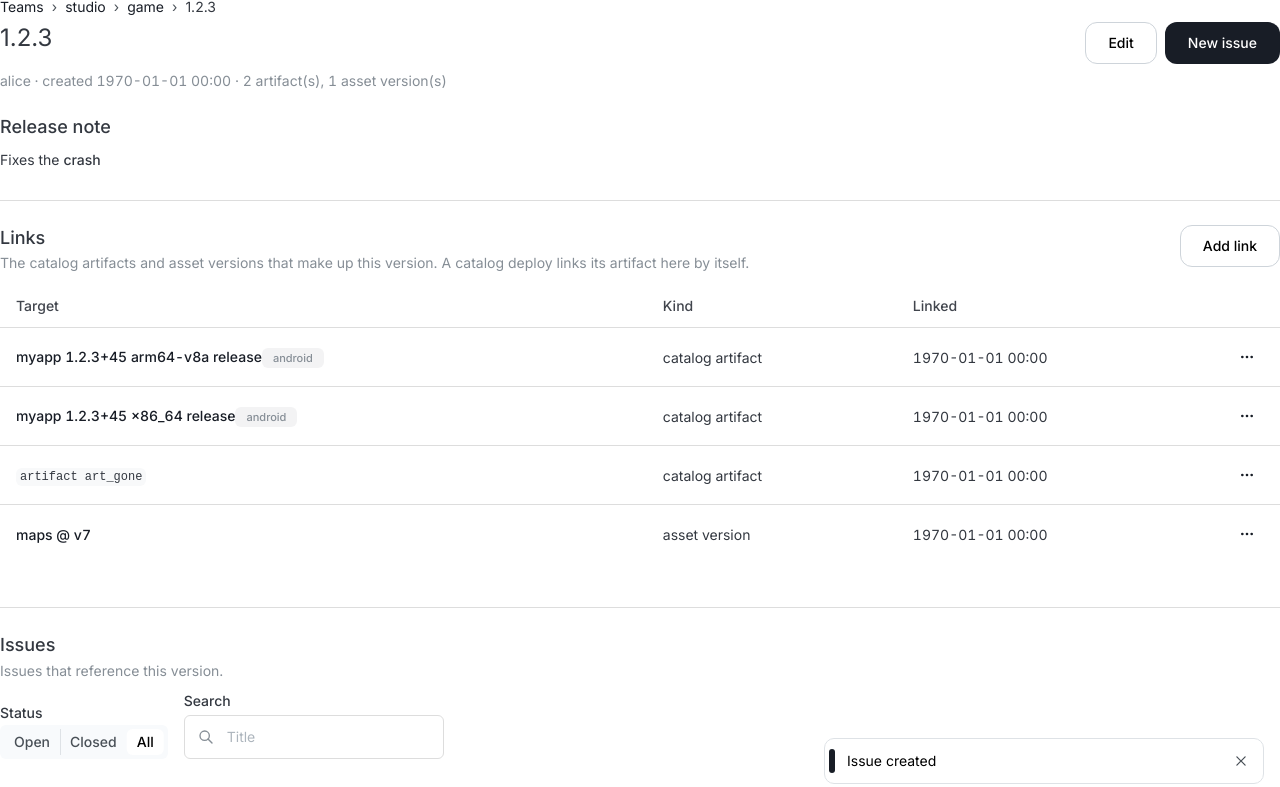
it: VersionPage › edits the note in a drawer and deletes from its danger zone
Expected: the heading "1.2.3" is shown, top-left (0, 22), bottom-right (52, 54)
Click the button "Edit" at (1121, 43), box top-left (1085, 22), bottom-right (1157, 64)
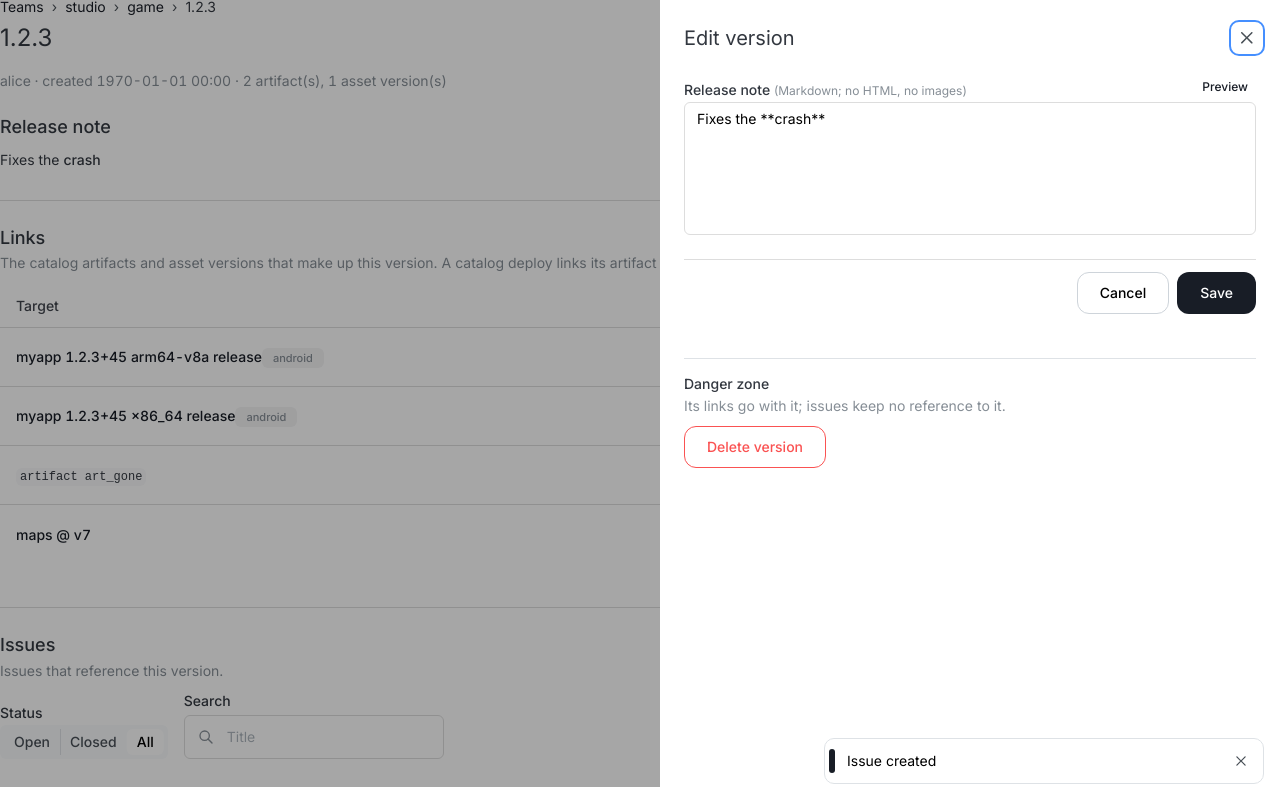
Replace the text in the text box named "Release note" with "Now *better*" at (970, 168), box top-left (684, 102), bottom-right (1256, 235)
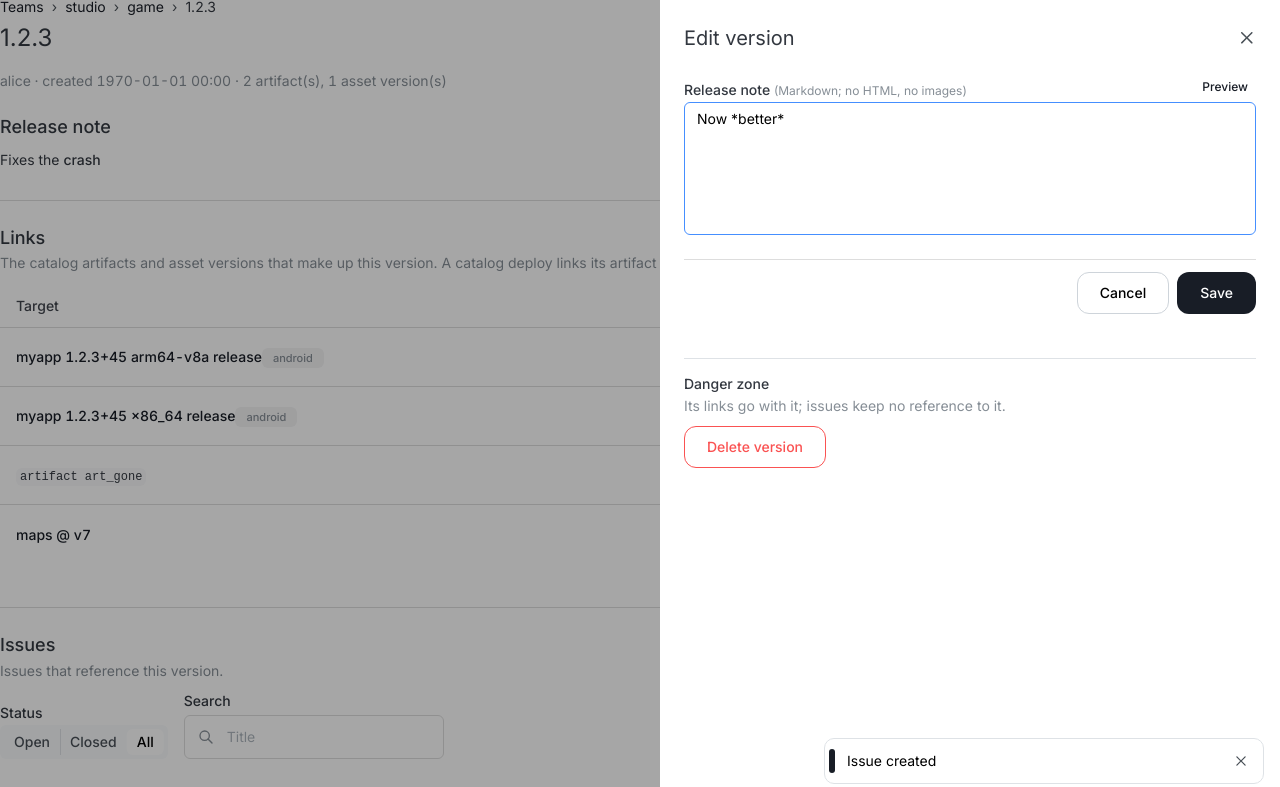
Click the button "Save" at (1217, 293), box top-left (1177, 272), bottom-right (1256, 314)
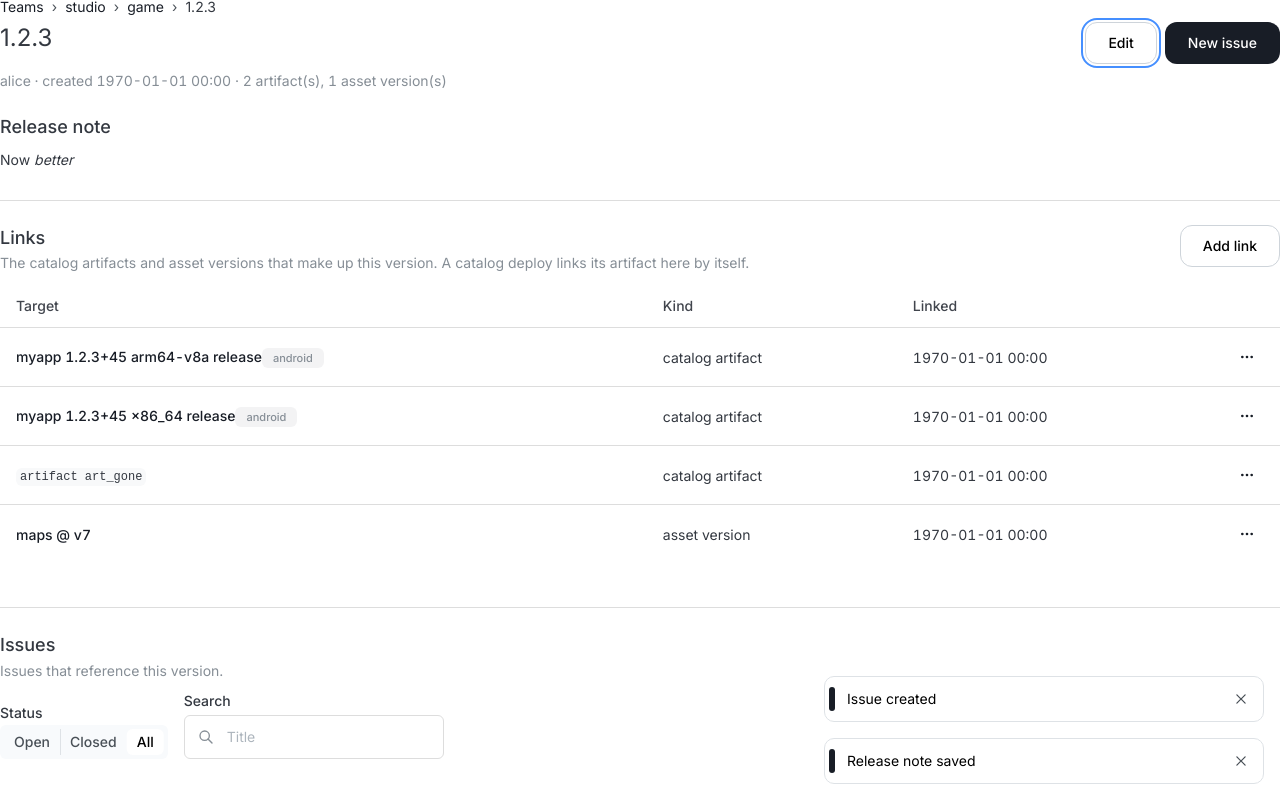
Now the text "better" is shown, box top-left (34, 151), bottom-right (73, 168)
Click the button "Edit" at (1121, 43), box top-left (1085, 22), bottom-right (1157, 64)
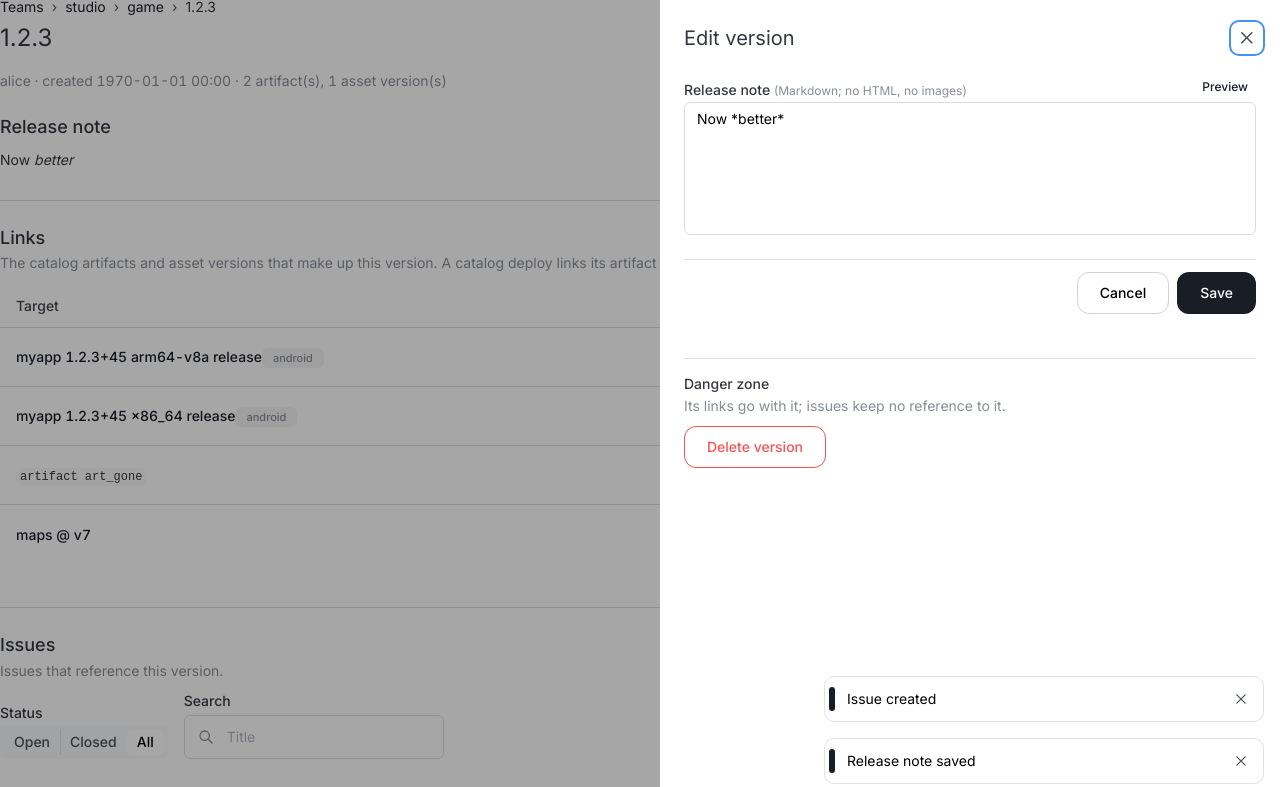
Click the button "Delete version" at (755, 447), box top-left (684, 426), bottom-right (826, 468)
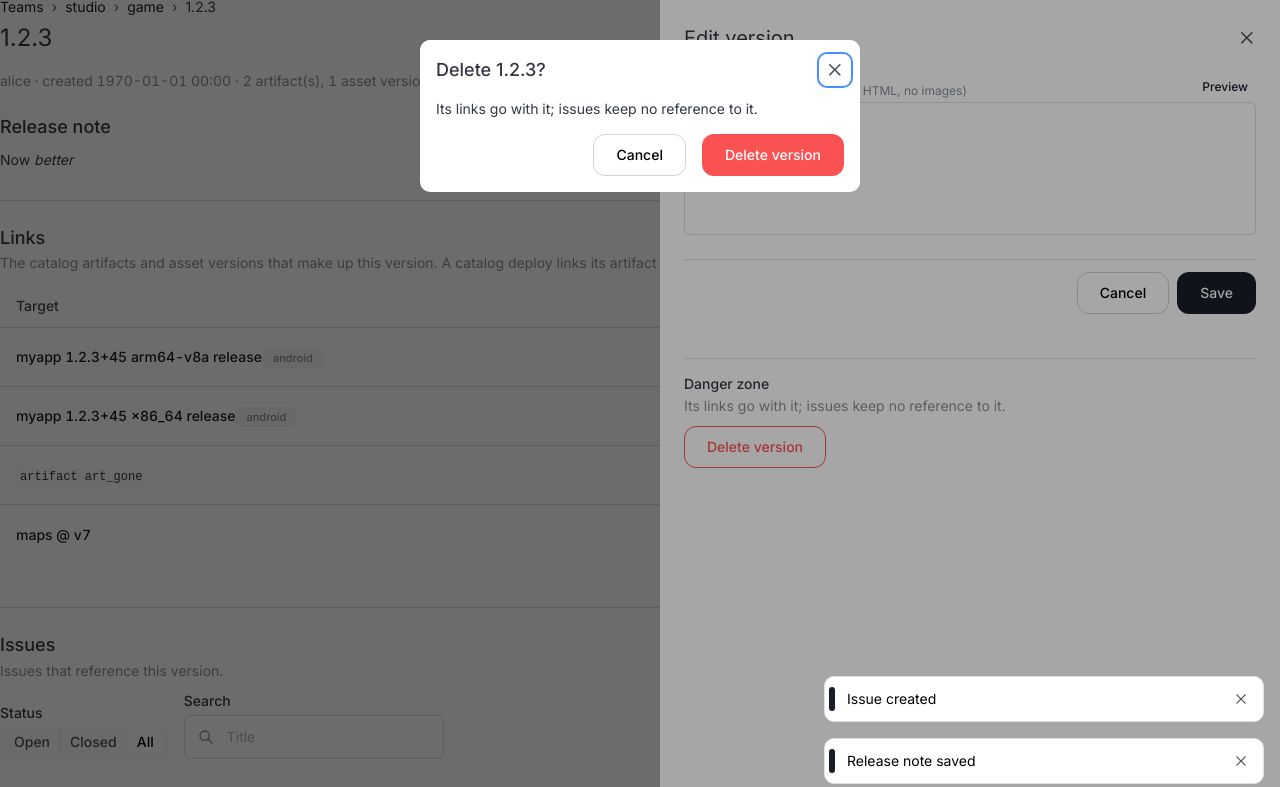
Click the button "Delete version" at (773, 154), box top-left (702, 134), bottom-right (844, 176)
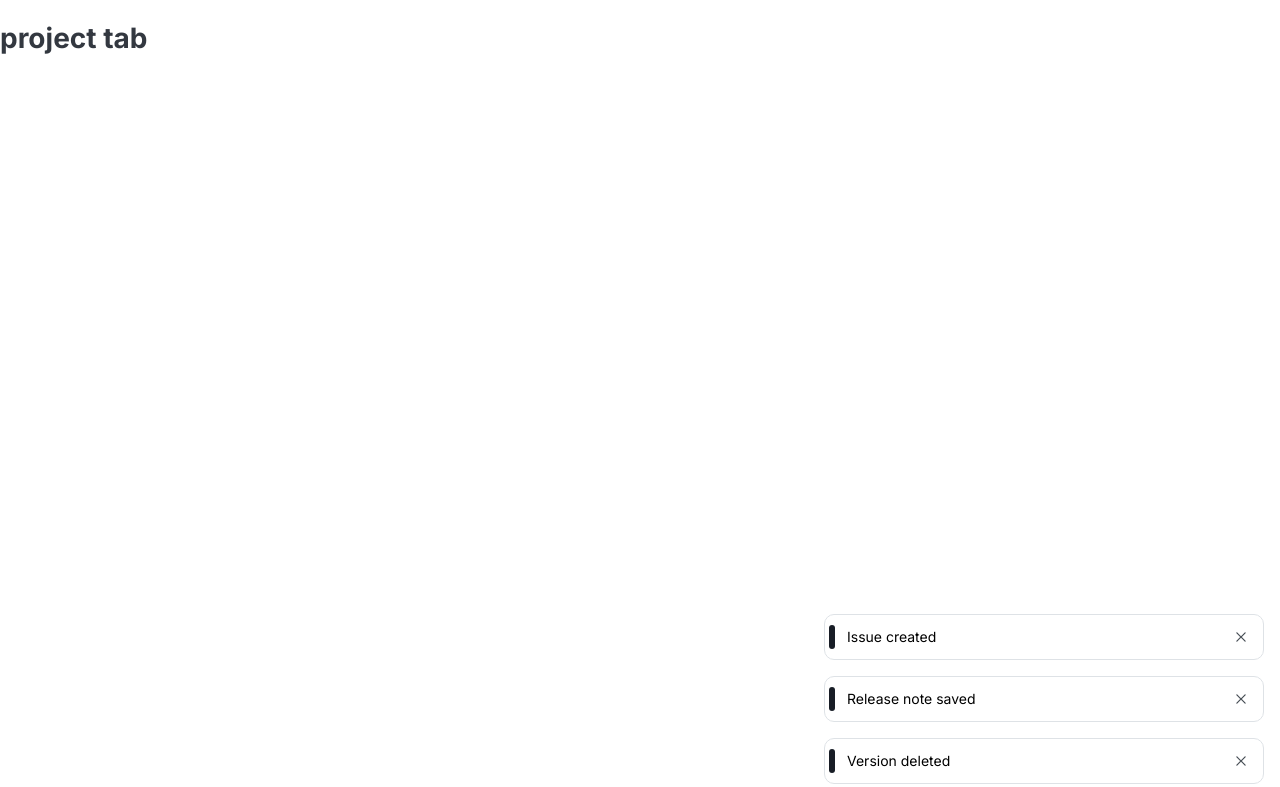
Now the heading "project tab" is shown, box top-left (0, 21), bottom-right (148, 55)
